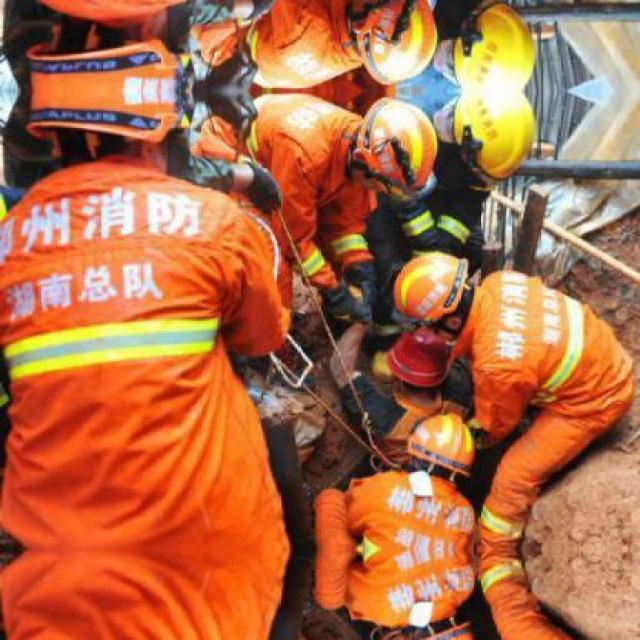hat: (359, 96, 439, 199), (452, 90, 534, 185), (398, 407, 476, 483), (391, 247, 463, 324), (382, 327, 456, 390)
